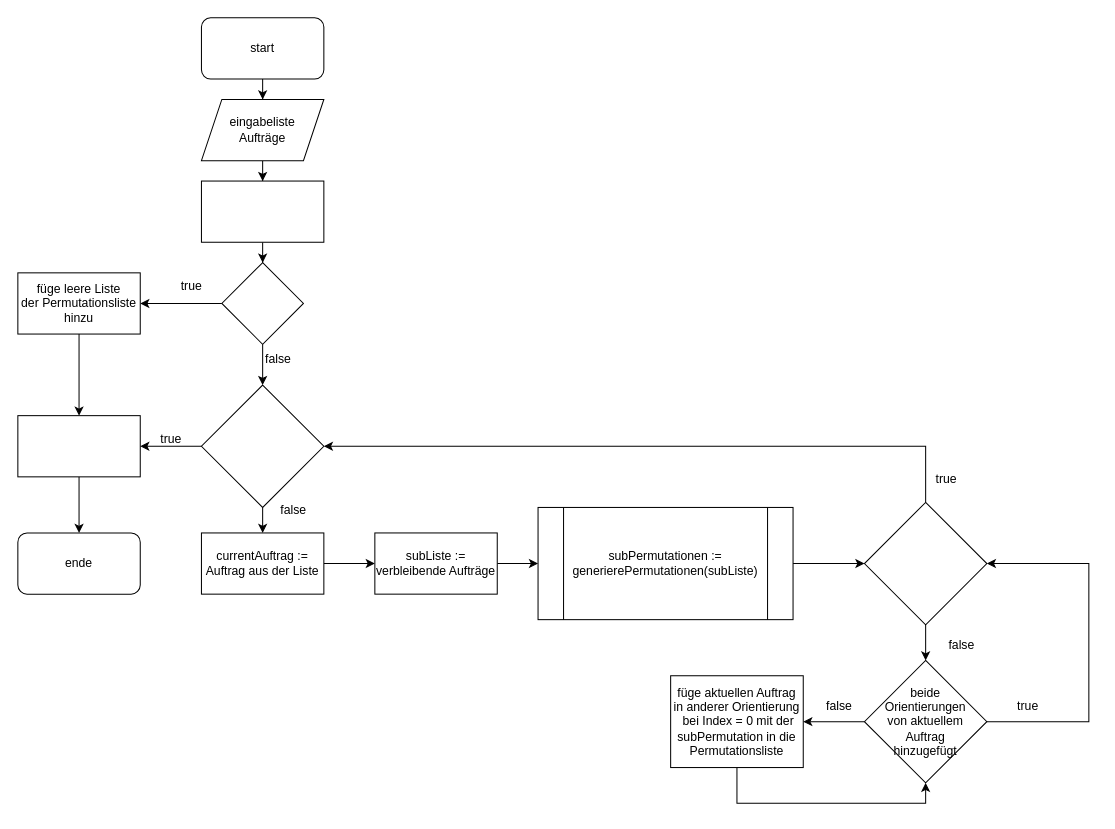
The diagram is 1115 pixels wide and 829 high, and some of its shapes have lost their labels. Each missing label, with the box of its shape:
Aufträge abgearbeitet: (200, 384, 324, 507)
gib Permutationsliste zurück: (17, 415, 140, 477)
initialisiere Permutationsliste: (200, 180, 324, 242)
ist Aufträge leer?: (221, 262, 303, 344)
subPermutationen abgearbeit: (863, 501, 987, 625)
